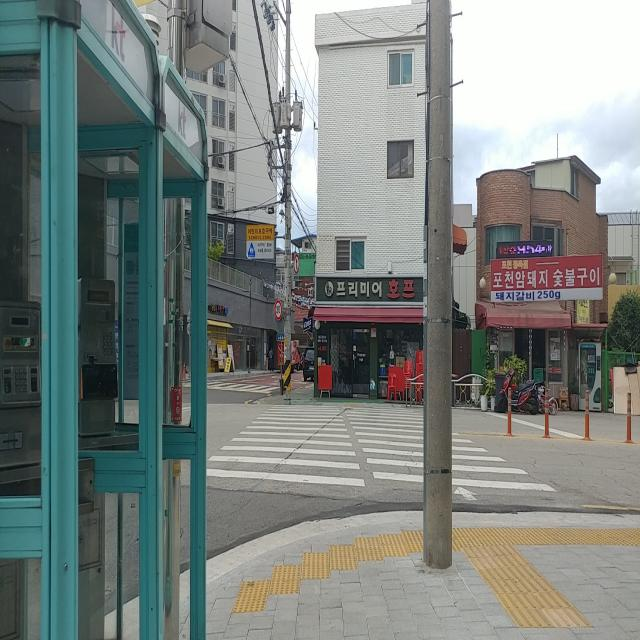횡단보도: (205, 402, 559, 503)
